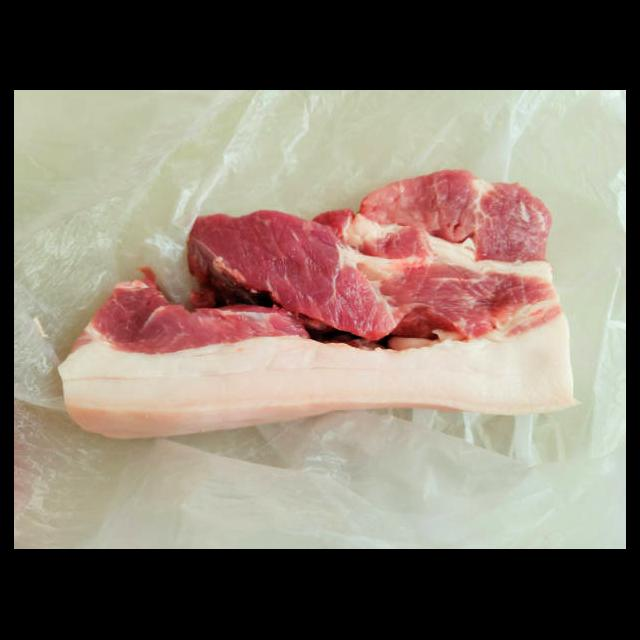pork: (196, 173, 580, 412), (60, 283, 300, 440)
